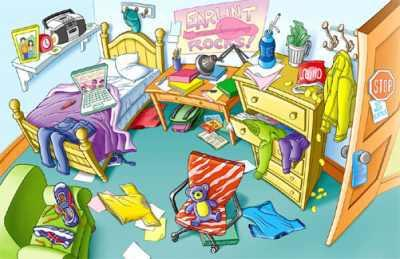bottle: (258, 31, 276, 69)
chair: (167, 147, 250, 250)
sofa: (1, 164, 96, 259)
